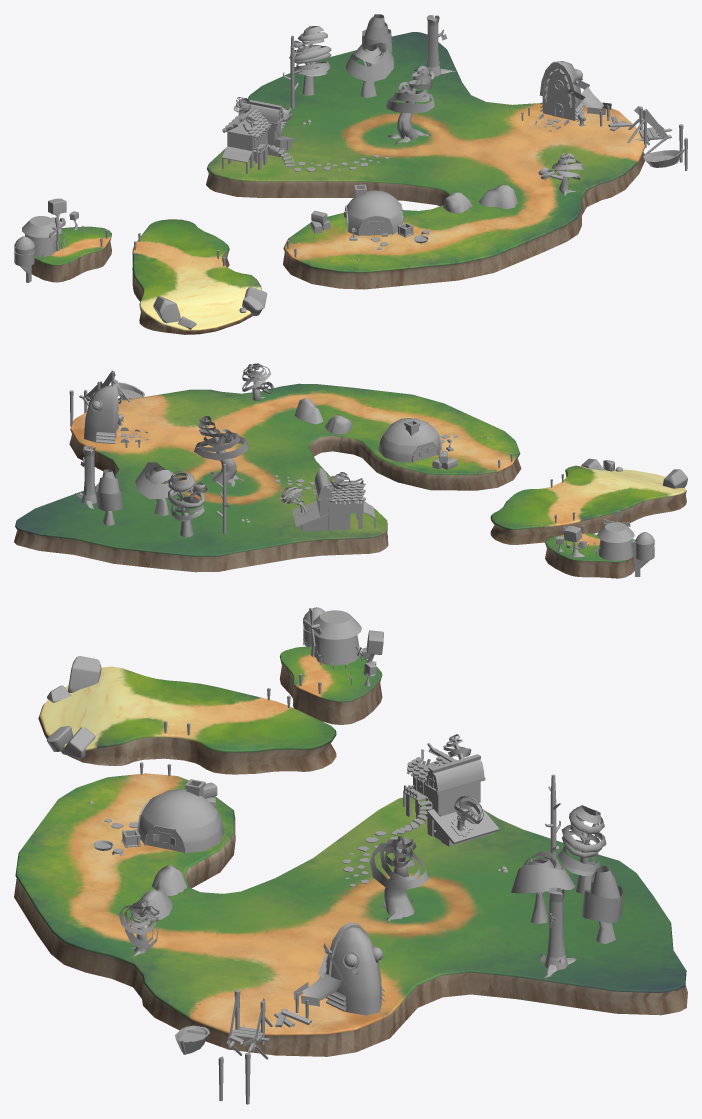
File: FBX_Ventelune_All 1.fbx
The picture shows the model from 3 angles, top to bottom: view 1: azimuth 30°, elevation 25°; view 2: azimuth 150°, elevation 25°; view 3: azimuth 270°, elevation 25°; orthographic projection. The views are drawn at different scales.
Parts seen in each view (by area): view 1: SM_Isle3, SM_Isle1, SM_Remumus_House, SM_Isle2, SM_Mauvis_House, SM_Seamone_House, SM_Tree_Orbe, SM_Tree_Plane, SM_Tree_Sphere_Plane, polySurface1, SM_Tree_BeeBite_Plane, SM_Cylindre_Pont_Broken (+6 smaller); view 2: SM_Isle3, SM_Isle1, SM_Remumus_House, SM_Isle2, SM_Mauvis_House, SM_Tree_Orbe, SM_Seamone_House, SM_Tree_Plane, SM_Tree_Sphere_Plane, polySurface1, SM_Tree_Cylindre_Plane, SM_Tree_BeeBite_Plane (+8 smaller); view 3: SM_Isle3, SM_Isle1, SM_Remumus_House, SM_Isle2, SM_Mauvis_House, SM_Seamone_House, SM_Tree_Orbe, SM_Tree_Plane, polySurface1, SM_Tree_Sphere_Plane, SM_Tree_Cylindre_Plane, SM_Tree_BeeBite_Plane (+4 smaller).
Boxes of the visible parts, x1,y1,x2,y2 form: SM_Isle3: (206,32,645,289); SM_Isle1: (132,219,261,334); SM_Remumus_House: (222,98,294,173); SM_Isle2: (31,226,111,282); SM_Mauvis_House: (344,184,403,236); SM_Seamone_House: (539,61,584,120); SM_Tree_Orbe: (385,65,434,144); SM_Tree_Plane: (289,26,331,95); SM_Tree_Sphere_Plane: (346,42,393,97); polySurface1: (22,216,60,256); SM_Tree_BeeBite_Plane: (538,153,584,195); SM_Cylindre_Pont_Broken: (627,106,687,170); SM_Isle3: (14,383,521,572); SM_Isle1: (490,465,686,544); SM_Remumus_House: (292,468,375,531); SM_Isle2: (545,532,635,578); SM_Mauvis_House: (378,418,441,462); SM_Tree_Orbe: (194,416,248,486); SM_Seamone_House: (84,383,119,443); SM_Tree_Plane: (168,470,207,537); SM_Tree_Sphere_Plane: (135,462,177,516); polySurface1: (597,522,634,560); SM_Tree_Cylindre_Plane: (95,469,122,525); SM_Tree_BeeBite_Plane: (242,363,273,400); SM_Isle3: (14,773,687,1056); SM_Isle1: (38,666,336,774); SM_Remumus_House: (391,742,499,846); SM_Isle2: (280,646,382,724); SM_Mauvis_House: (137,779,223,853); SM_Seamone_House: (324,922,384,1015); SM_Tree_Orbe: (370,835,428,922); SM_Tree_Plane: (558,805,606,893); polySurface1: (309,610,361,665); SM_Tree_Sphere_Plane: (511,851,575,923); SM_Tree_Cylindre_Plane: (581,866,623,943); SM_Tree_BeeBite_Plane: (119,900,159,956).
Size of the model in its own units: 5947 by 974 by 4019.
